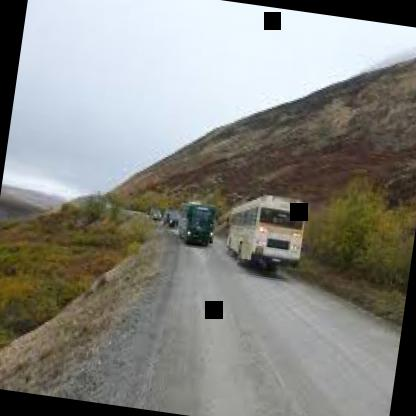car: (218, 178, 319, 289), (169, 188, 225, 256), (142, 201, 165, 224)
